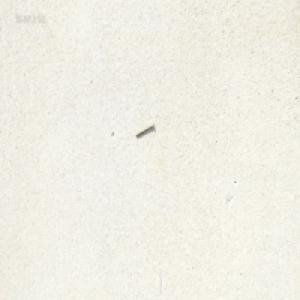Bolt: (135, 122, 154, 138)
